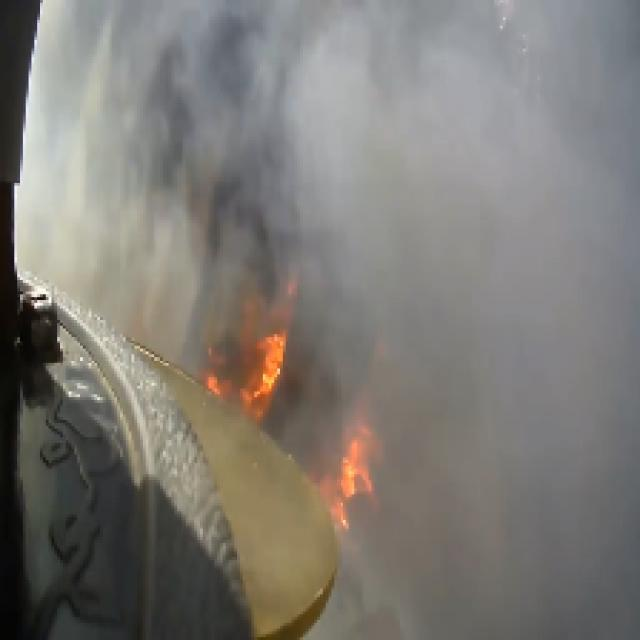Fire: (162, 246, 418, 568)
Smoke: (0, 0, 640, 303)
